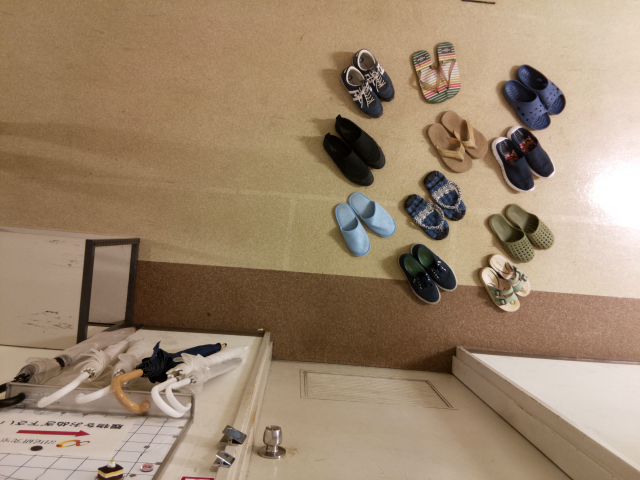Copy of Copy of Copy of Copy of Copy of Copy of Copy of Copy of Copy of Copy of: (512, 55, 574, 118), (435, 102, 493, 164), (486, 125, 537, 195), (505, 119, 560, 183), (500, 194, 558, 253), (420, 115, 474, 178), (417, 167, 474, 223), (496, 72, 552, 128), (484, 206, 536, 264), (475, 258, 524, 319), (489, 251, 539, 304)
Copy of Copy of Copy of Copy of Copy of Copy of Copy of Copy of Copy of shoe: (398, 187, 459, 243)
Copy of Copy of Copy of Copy of Copy of Copy of Copy of Copy of shoe: (408, 237, 460, 297)
Copy of Copy of Copy of Copy of Copy of Copy of Copy of shoe: (393, 246, 445, 306), (434, 34, 469, 100)
Copy of Copy of Copy of Copy of Copy of Copy of shoe: (408, 42, 447, 109)
Copy of Copy of Copy of Copy of Copy of shoe: (341, 185, 399, 242)
Copy of Copy of Copy of Copy of Copy of umbrella: (1, 319, 139, 408)
Copy of Copy of Copy of Copy of shoe: (326, 197, 377, 264)
Copy of Copy of Copy of Copy of umbrella: (32, 321, 129, 411)
Copy of Copy of Copy of shoe: (328, 106, 391, 168)
Copy of Copy of Copy of umbrella: (64, 324, 160, 413)
Copy of Copy of shoe: (319, 127, 374, 186)
Copy of Copy of umbrella: (108, 334, 228, 419)
Copy of shoe: (349, 44, 401, 103)
Copy of umbrella: (165, 346, 256, 421)
shoe: (336, 63, 388, 122)
umbrella: (145, 336, 254, 419)
